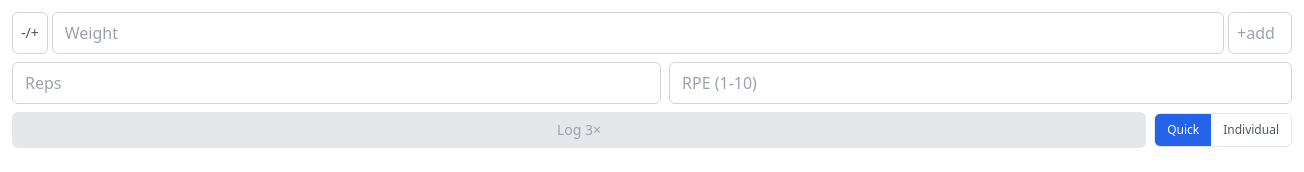
Test: SetLogger › minus toggle › prepends - to existing value
The width and height of the screenshot is (1304, 172).
Type "22.5" into the field with placeholder "Weight".
click(638, 33); type("22.5")  # box x1=52 y1=12 x2=1224 y2=54
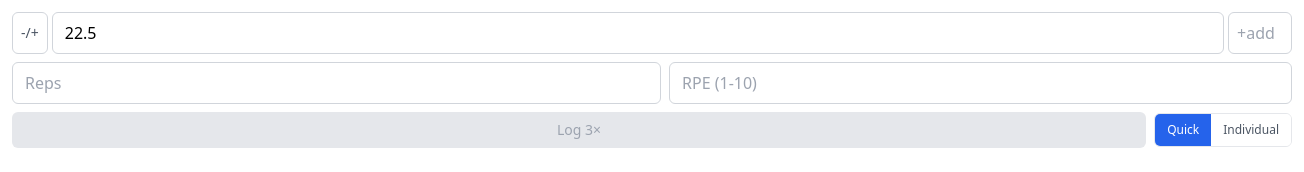
Click the button named "Toggle negative".
click(30, 33)  # box x1=12 y1=12 x2=48 y2=54
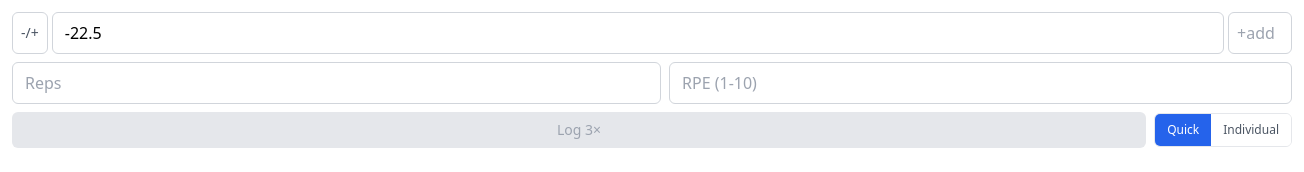
Result: the field with placeholder "Weight" holds "-22.5" at x1=52 y1=12 x2=1224 y2=54
